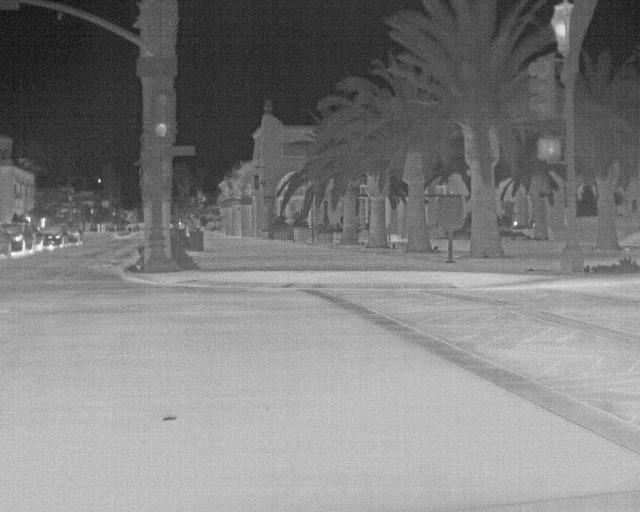car: (41, 224, 68, 250), (12, 223, 32, 253), (22, 224, 41, 251), (0, 228, 18, 254), (67, 226, 81, 245)
